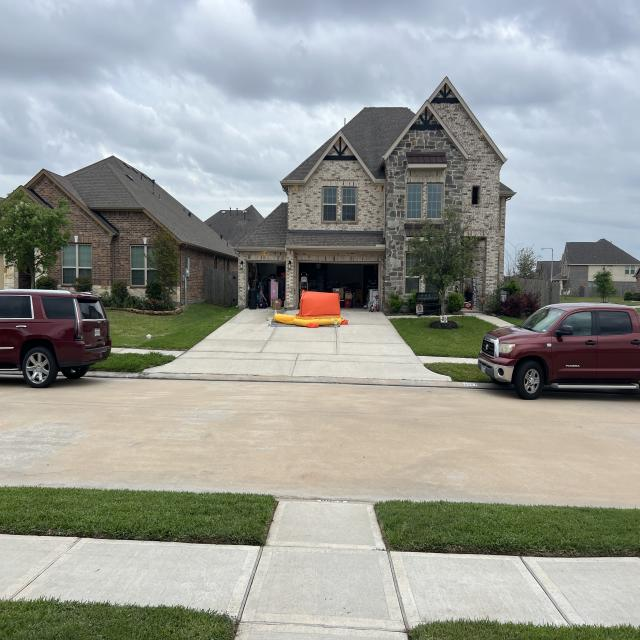Multi-person_life_raft: (274, 291, 348, 328)
